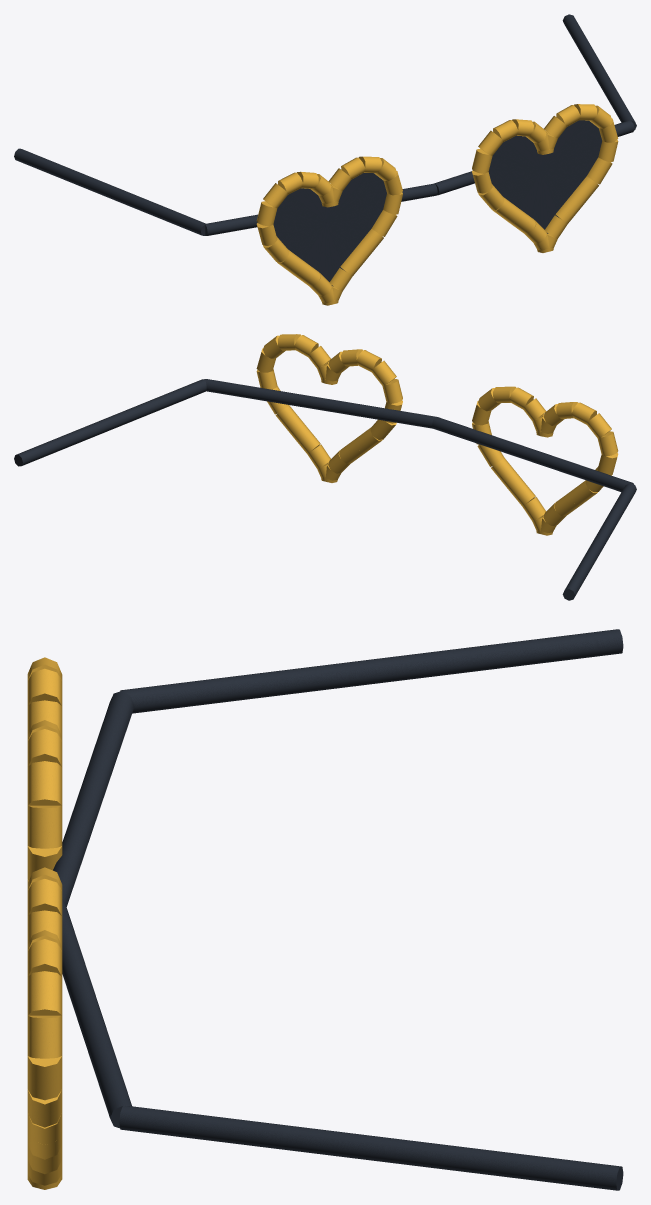
File: reference_heart_sunglasses.gltf
3 views of the same model, one above another, from view 1: azimuth 30°, elevation 25°; view 2: azimuth 150°, elevation 25°; view 3: azimuth 270°, elevation 25° (orthographic). The views are drawn at different scales.
Visible parts, largest first — view 1: Heart Sunglasses; view 2: Heart Sunglasses; view 3: Heart Sunglasses.
Boxes of the visible parts, x1,y1,x2,y2 form: Heart Sunglasses: [14, 14, 636, 305]; Heart Sunglasses: [14, 334, 636, 600]; Heart Sunglasses: [27, 629, 623, 1190].
Bounding box in the file's own units: 0.4486 × 0.1054 × 0.2063.
Materials: 2 (2 with a texture image).
